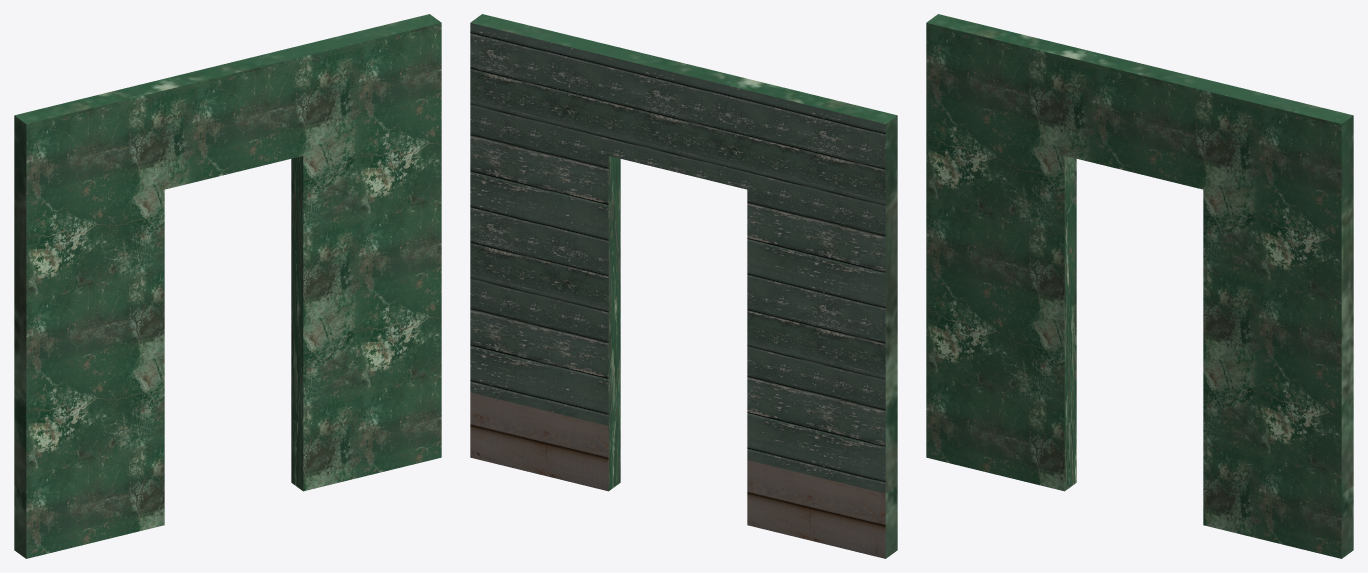
Rendered from Doorway.fbx.
3 views of the same model, side by side, from view 1: azimuth 30°, elevation 25°; view 2: azimuth 150°, elevation 25°; view 3: azimuth 330°, elevation 25° (orthographic).
Parts seen in each view (by area): view 1: Doorway; view 2: Doorway; view 3: Doorway.
Part boxes in pixels (x1,y1,x2,y2): Doorway: (14,14,441,558); Doorway: (470,14,897,558); Doorway: (926,14,1353,558).
Size of the model in its own units: 400 by 400 by 20.
3 materials, 3 textured.
